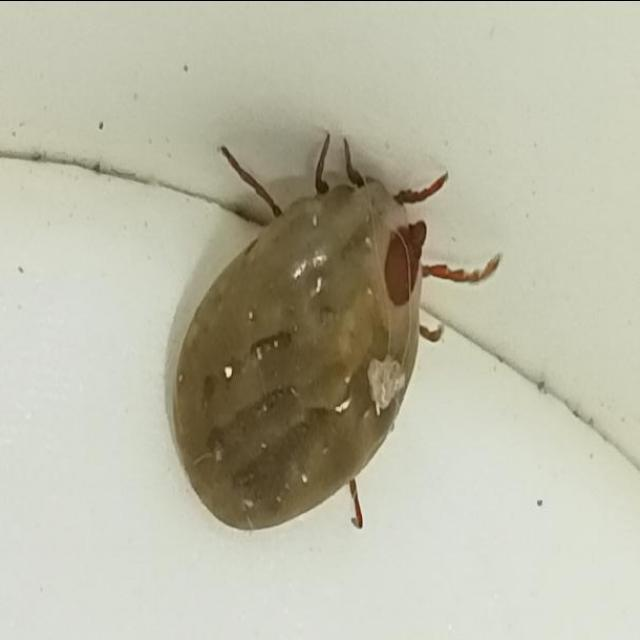Rhipicephalus Sanguineus-F-Fed: (163, 131, 512, 533)
